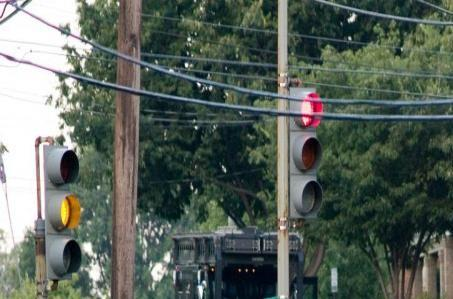red_light: (288, 87, 323, 219)
yellow_light: (43, 146, 82, 279)
